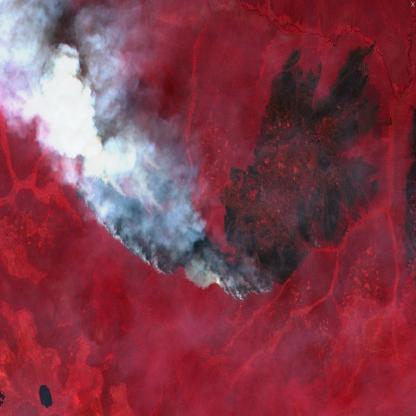fire: (70, 141, 275, 306)
